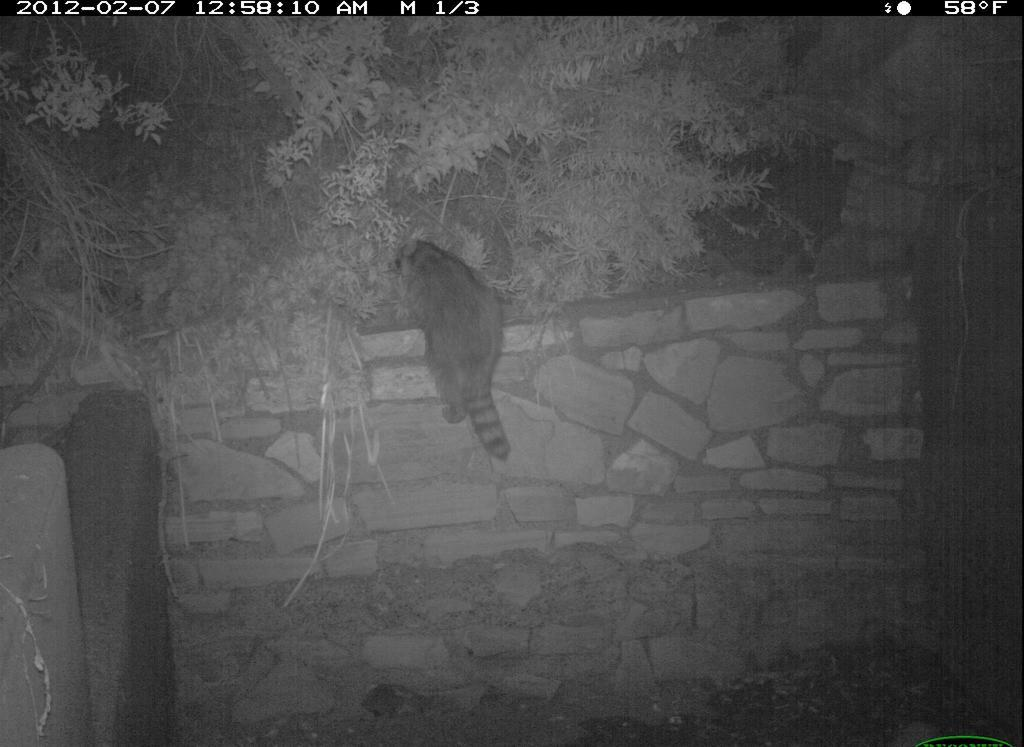raccoon: (377, 225, 524, 472)
